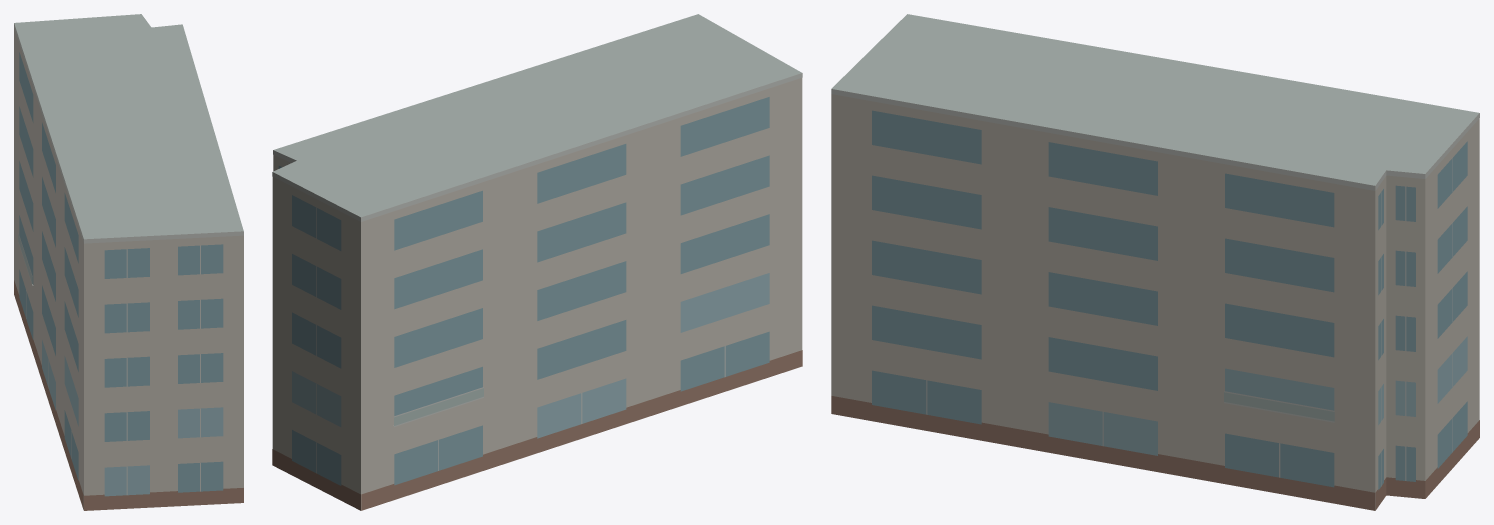
Rendered from survey-upis-32852026.glb.
The picture shows the model from 3 angles, left to right: view 1: azimuth 30°, elevation 25°; view 2: azimuth 150°, elevation 25°; view 3: azimuth 270°, elevation 25°; orthographic projection. The views are drawn at different scales.
Visible parts, largest first — view 1: survey-upis-32852026.tmp; view 2: survey-upis-32852026.tmp; view 3: survey-upis-32852026.tmp.
Part boxes in pixels (bbox=[...]): survey-upis-32852026.tmp: bbox=[14, 14, 243, 510]; survey-upis-32852026.tmp: bbox=[272, 14, 802, 510]; survey-upis-32852026.tmp: bbox=[831, 14, 1479, 510].
Bounding box in the file's own units: 17.59 × 15.5 × 28.04.
